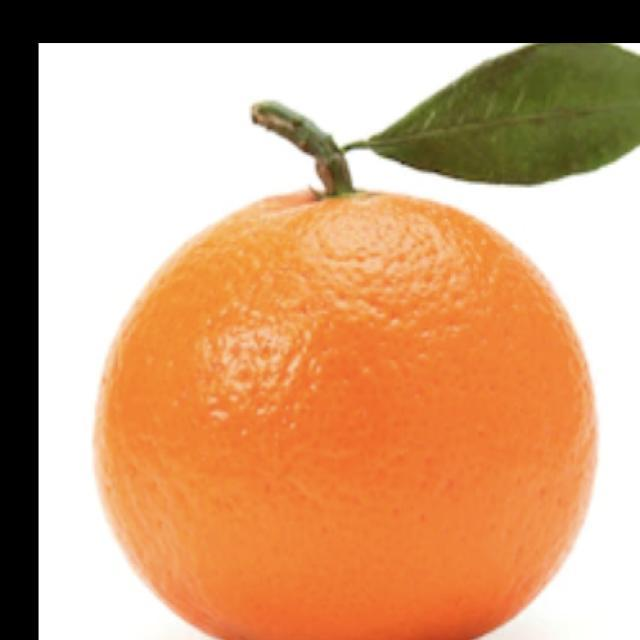Orange: (91, 183, 600, 639)
